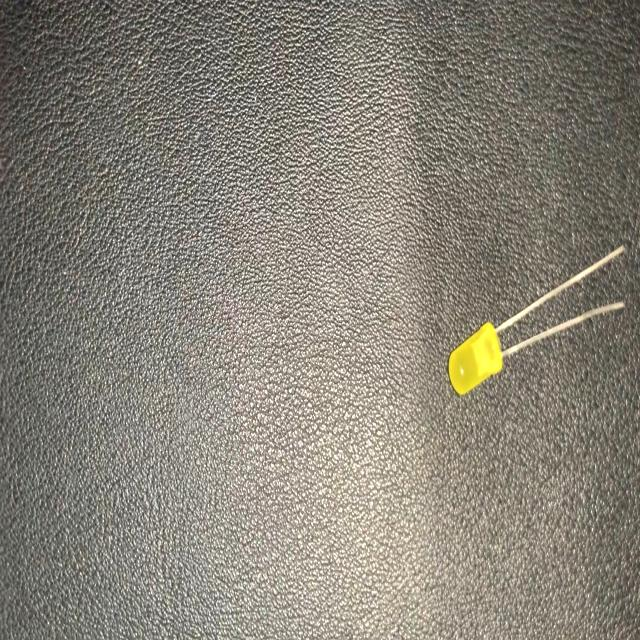LED: (448, 237, 628, 398)
